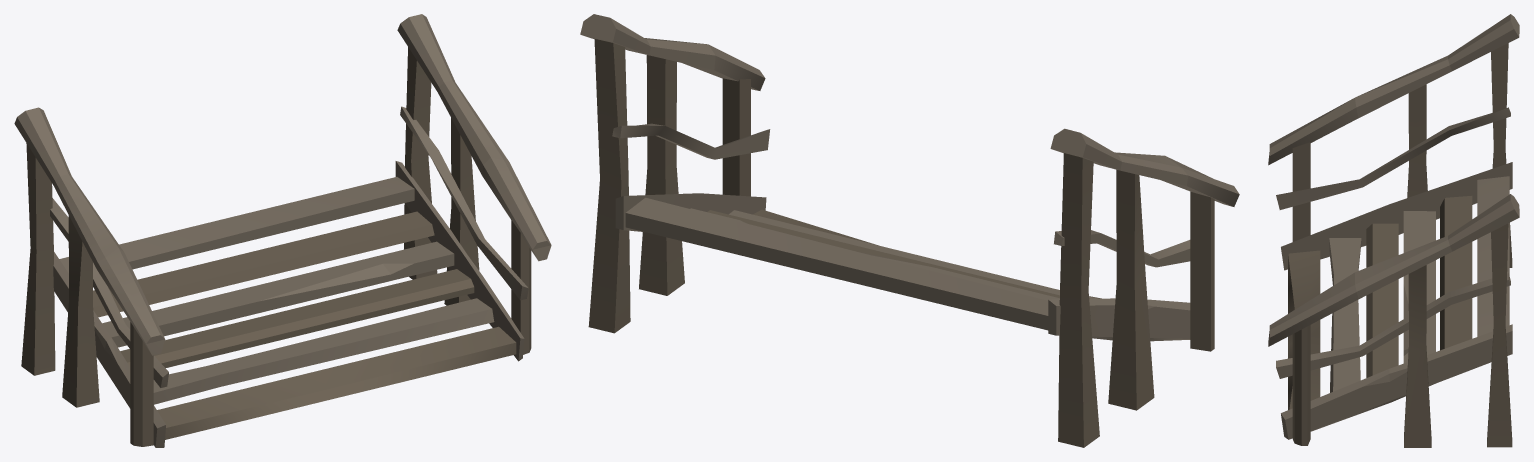
File: _STAIRS_01_1.fbx
3 renders of one model, left to right at view 1: azimuth 30°, elevation 25°; view 2: azimuth 150°, elevation 25°; view 3: azimuth 270°, elevation 25°, orthographic. The views are drawn at different scales.
Visible parts, largest first — view 1: STAIRS_01_1; view 2: STAIRS_01_1; view 3: STAIRS_01_1.
Boxes of the visible parts, x1,y1,x2,y2 form: STAIRS_01_1: (14, 14, 551, 447); STAIRS_01_1: (580, 14, 1239, 447); STAIRS_01_1: (1268, 14, 1519, 447).
Bounding box in the file's own units: 216 × 128 × 119.
